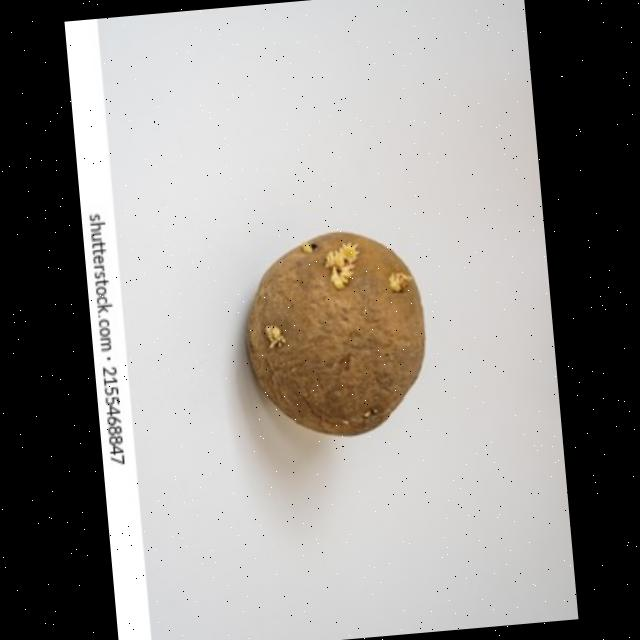Sprouted potato: (219, 202, 442, 448)
